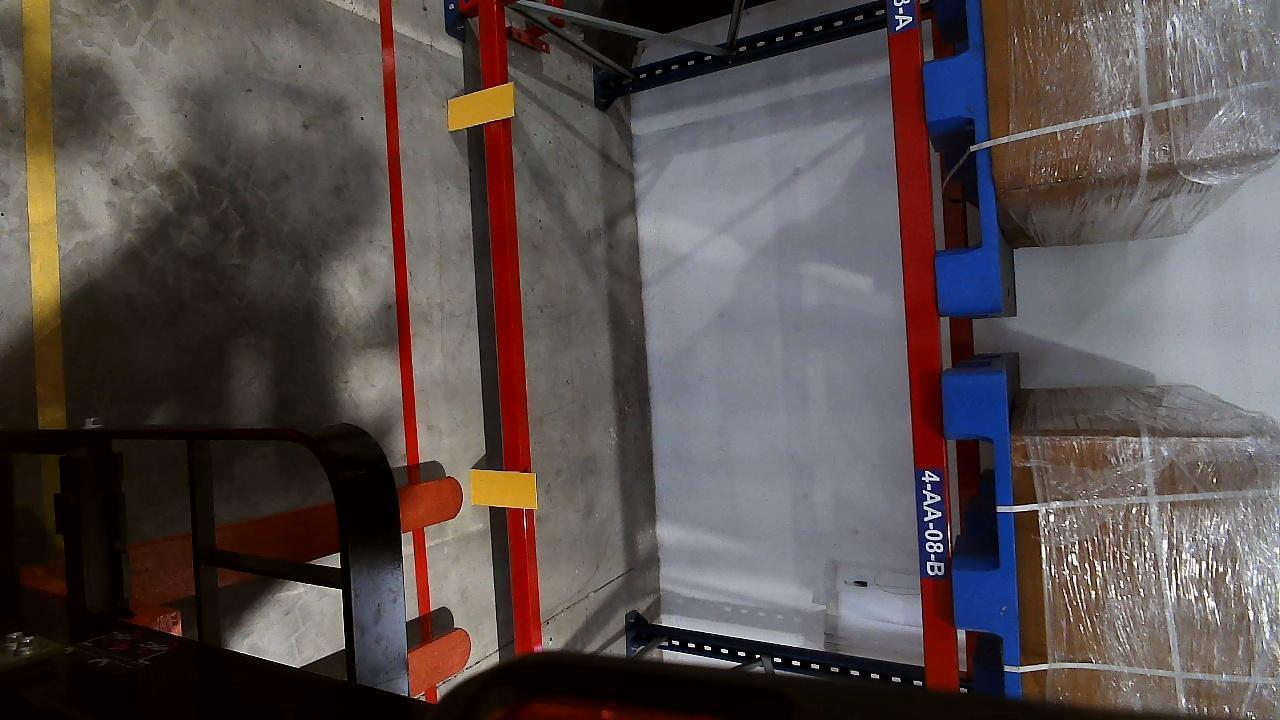red_line: (377, 1, 422, 482)
yellow_line: (19, 1, 66, 428)
